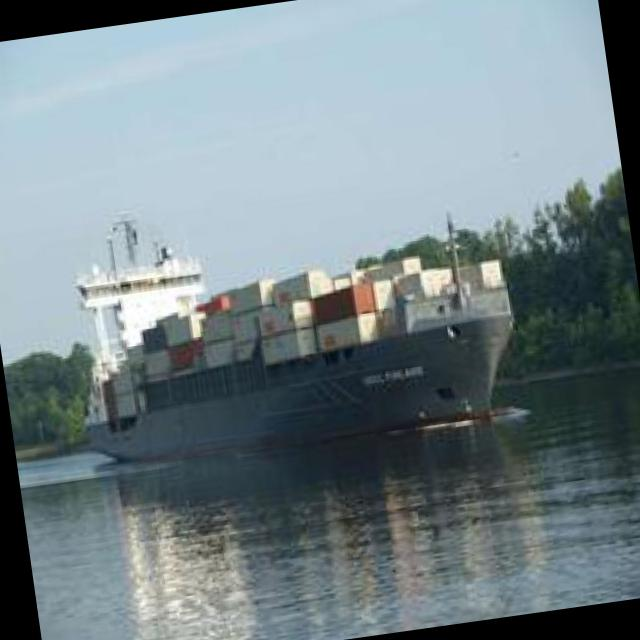boat: (30, 232, 536, 509)
